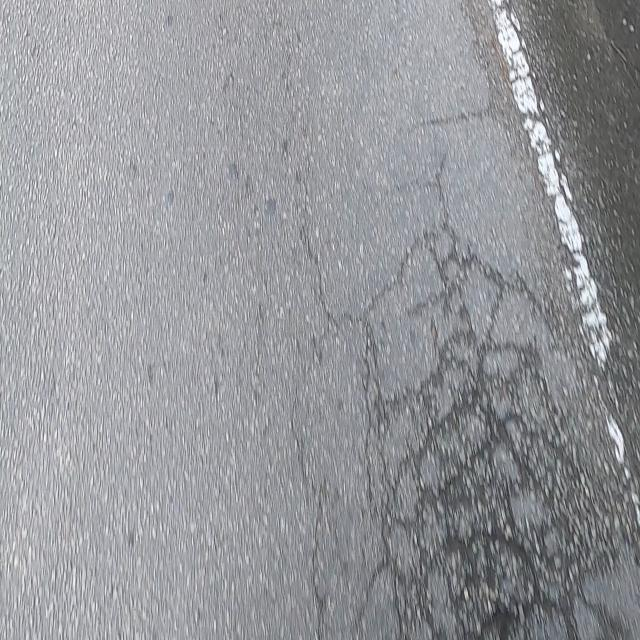Retak-Buaya: (360, 225, 637, 640)
